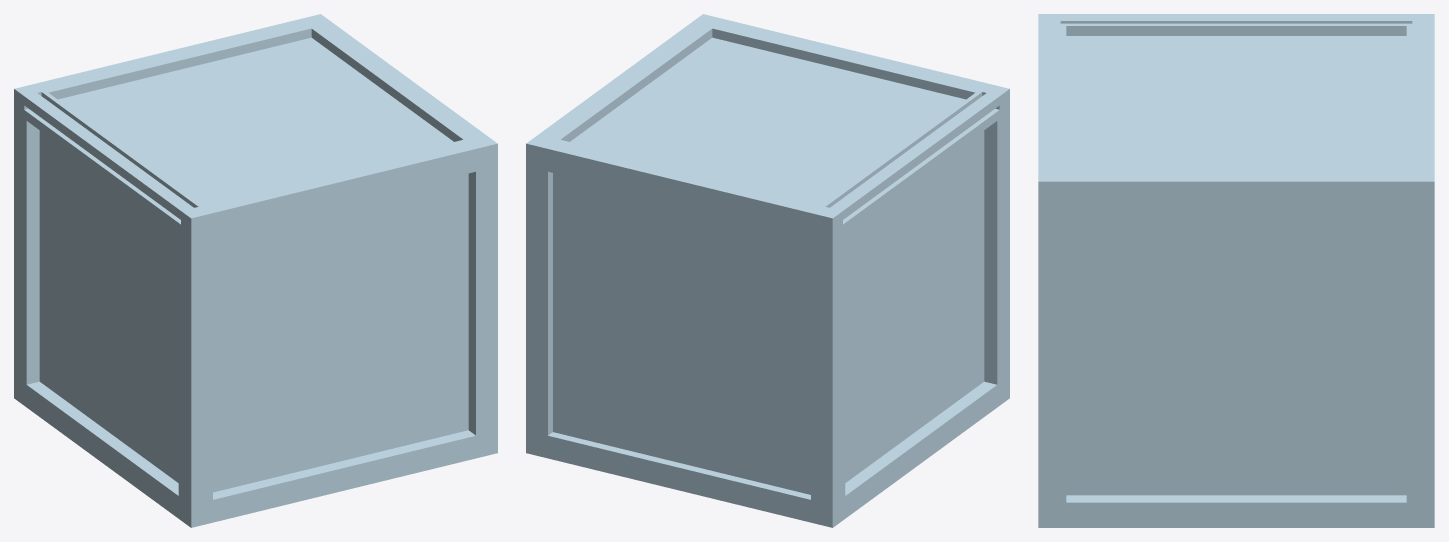
Rendered from oasis.glb.
3 views of the same model, side by side, from view 1: azimuth 30°, elevation 25°; view 2: azimuth 150°, elevation 25°; view 3: azimuth 270°, elevation 25° (orthographic). The views are drawn at different scales.
Parts seen in each view (by area): view 1: Part 1.005, Part 1.021, Part 1.012, Part 1, Part 1.016, Part 1.004, Part 1.008, Part 1.010, Part 3, Part 1.019, Part 1.017, Part 1.018 (+1 smaller); view 2: Part 1.009, Part 1.021, Part 1.012, Part 1.019, Part 1.010, Part 1.007, Part 1.015, Part 1.016, Part 3, Part 1, Part 1.017, Part 1.018 (+1 smaller); view 3: Part 1.006, Part 1.021, Part 1.018, Part 1.011, Part 1.008, Part 1.015, Part 1, Part 1.019, Part 2.001, Part 3.
Part boxes in pixels (<box>): Part 1.005: <box>213,173,468,492</box>; Part 1.021: <box>58,37,453,203</box>; Part 1.012: <box>39,130,178,482</box>; Part 1: <box>191,139,497,235</box>; Part 1.016: <box>178,218,212,527</box>; Part 1.004: <box>191,430,497,527</box>; Part 1.008: <box>468,144,497,452</box>; Part 1.010: <box>14,89,39,397</box>; Part 3: <box>14,89,197,231</box>; Part 1.019: <box>14,14,320,99</box>; Part 1.017: <box>14,381,190,527</box>; Part 1.018: <box>311,14,497,143</box>; Part 1.009: <box>553,173,810,494</box>; Part 1.021: <box>570,37,965,203</box>; Part 1.012: <box>845,130,984,482</box>; Part 1.019: <box>526,139,832,235</box>; Part 1.010: <box>811,218,845,527</box>; Part 1.007: <box>526,432,832,527</box>; Part 1.015: <box>526,144,552,452</box>; Part 1.016: <box>984,89,1009,397</box>; Part 3: <box>826,89,1009,231</box>; Part 1: <box>703,14,1009,99</box>; Part 1.017: <box>833,381,1009,527</box>; Part 1.018: <box>526,14,712,143</box>; Part 1.006: <box>1066,207,1406,495</box>; Part 1.021: <box>1066,36,1406,169</box>; Part 1.018: <box>1038,169,1434,206</box>; Part 1.011: <box>1039,495,1433,527</box>; Part 1.008: <box>1038,182,1066,527</box>; Part 1.015: <box>1406,182,1434,527</box>; Part 1: <box>1038,14,1066,181</box>; Part 1.019: <box>1406,14,1434,181</box>; Part 2.001: <box>1062,23,1410,35</box>; Part 3: <box>1039,14,1433,23</box>.
Bounding box in the file's own units: 4.23 × 4.08 × 4.23.
